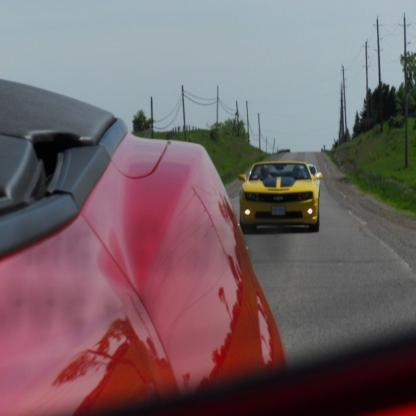Car: (1, 79, 416, 416), (237, 154, 326, 235)
